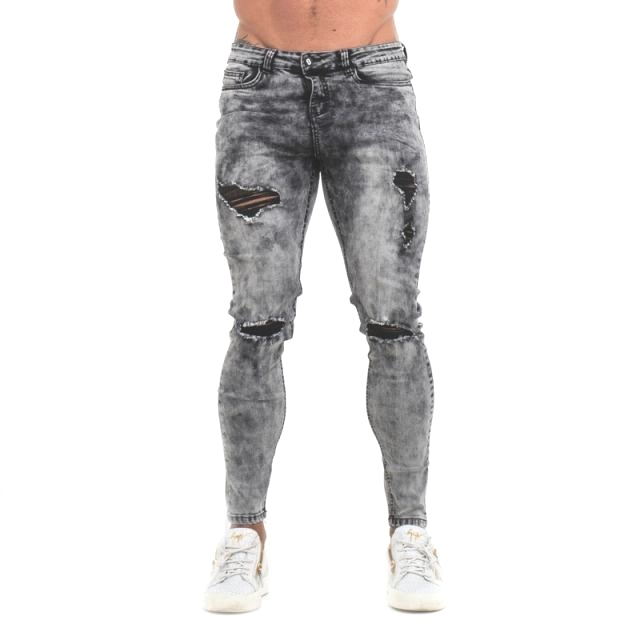Crop_Top: (232, 0, 403, 58)
ripped_pants: (212, 38, 436, 530)
